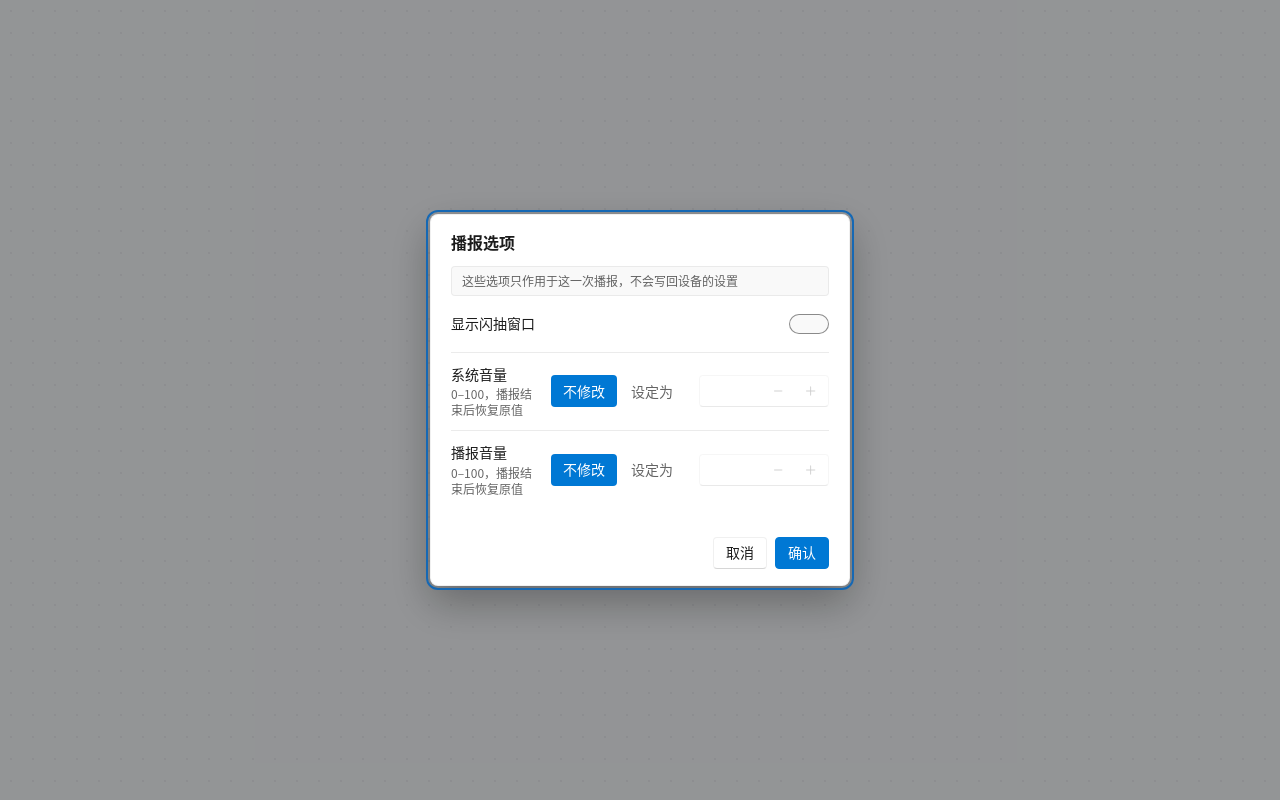
Test: ClientBroadcastDialog 选项 › 越界 / 小数 / 空着都不给确认，并当场说清要填什么
Click the radio button with test id "broadcast-system-set": (652, 391) [619,375,685,407]
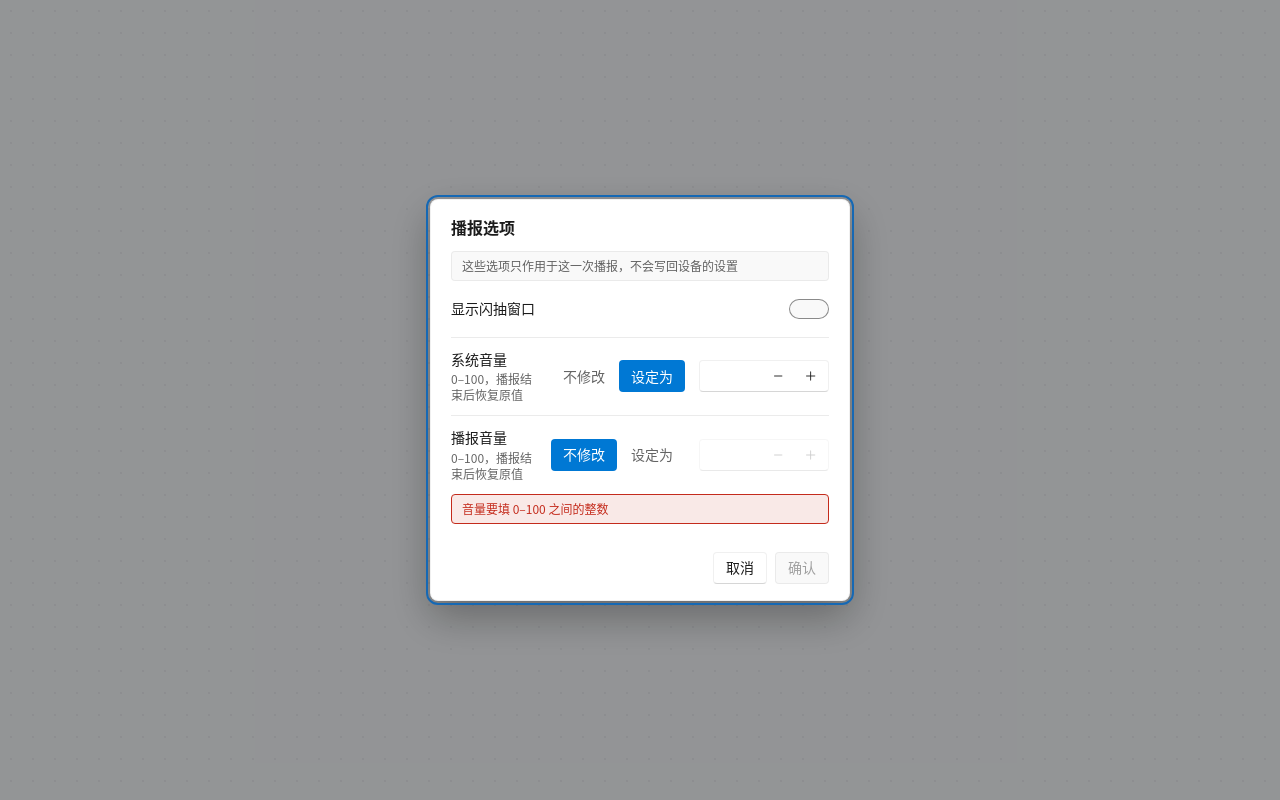
Now the text with test id "broadcast-problem" shows "0–100", box [462,500,608,517]
In the number field with test id "broadcast-system-volume": (732, 376) [700,361,764,391], type "150"
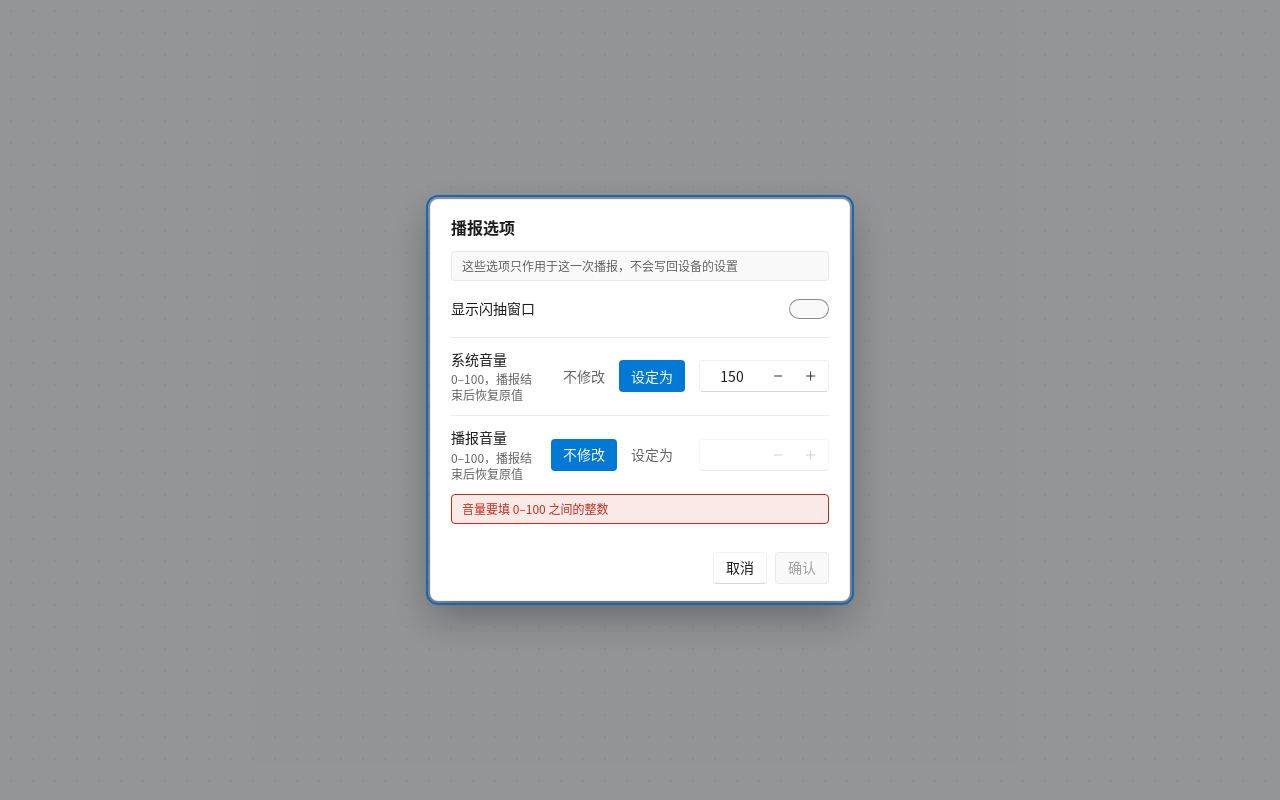
Now the button with test id "broadcast-confirm" is disabled, box [775,552,829,584]
Now the text with test id "broadcast-problem" shows "0–100", box [462,500,608,517]
Replace the text in the number field with test id "broadcast-system-volume" with "12.5": (732, 376) [700,361,764,391]
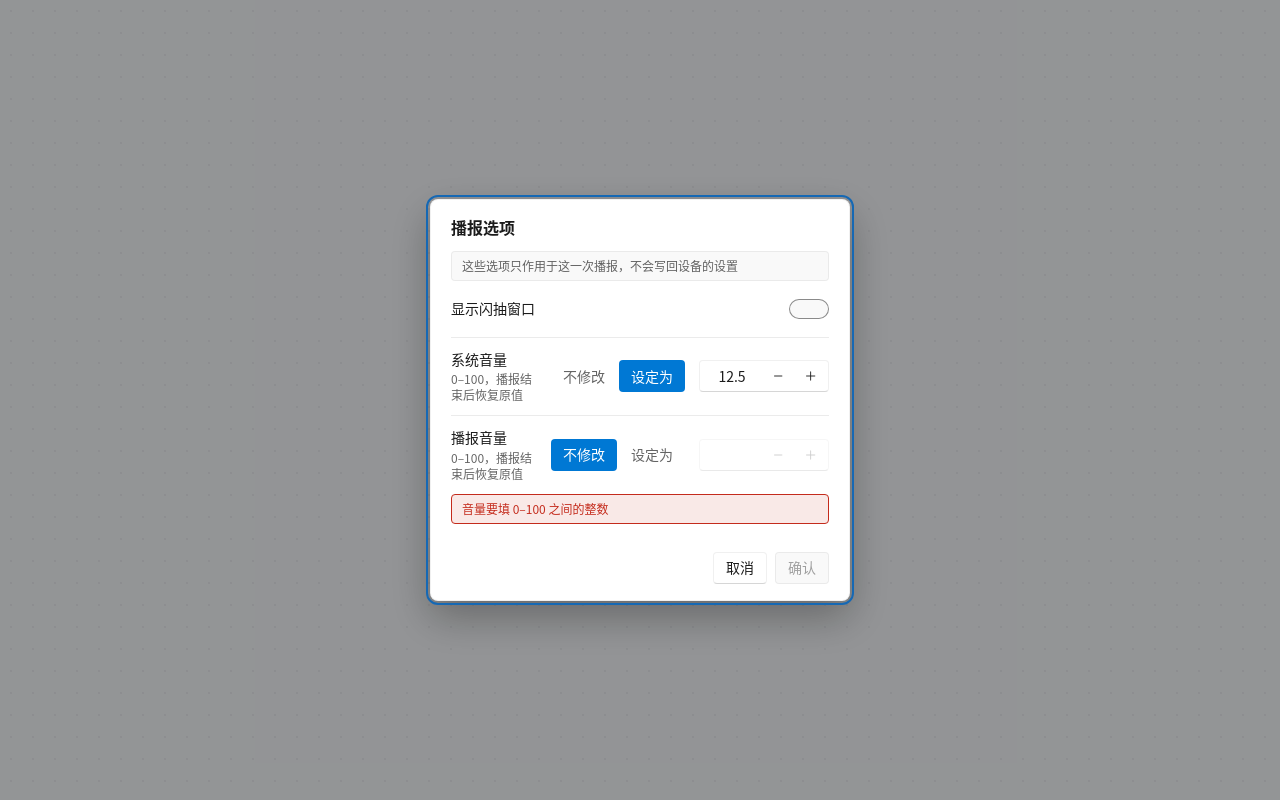
Now the button with test id "broadcast-confirm" is disabled, box [775,552,829,584]
Replace the text in the number field with test id "broadcast-system-volume" with "100": (732, 376) [700,361,764,391]
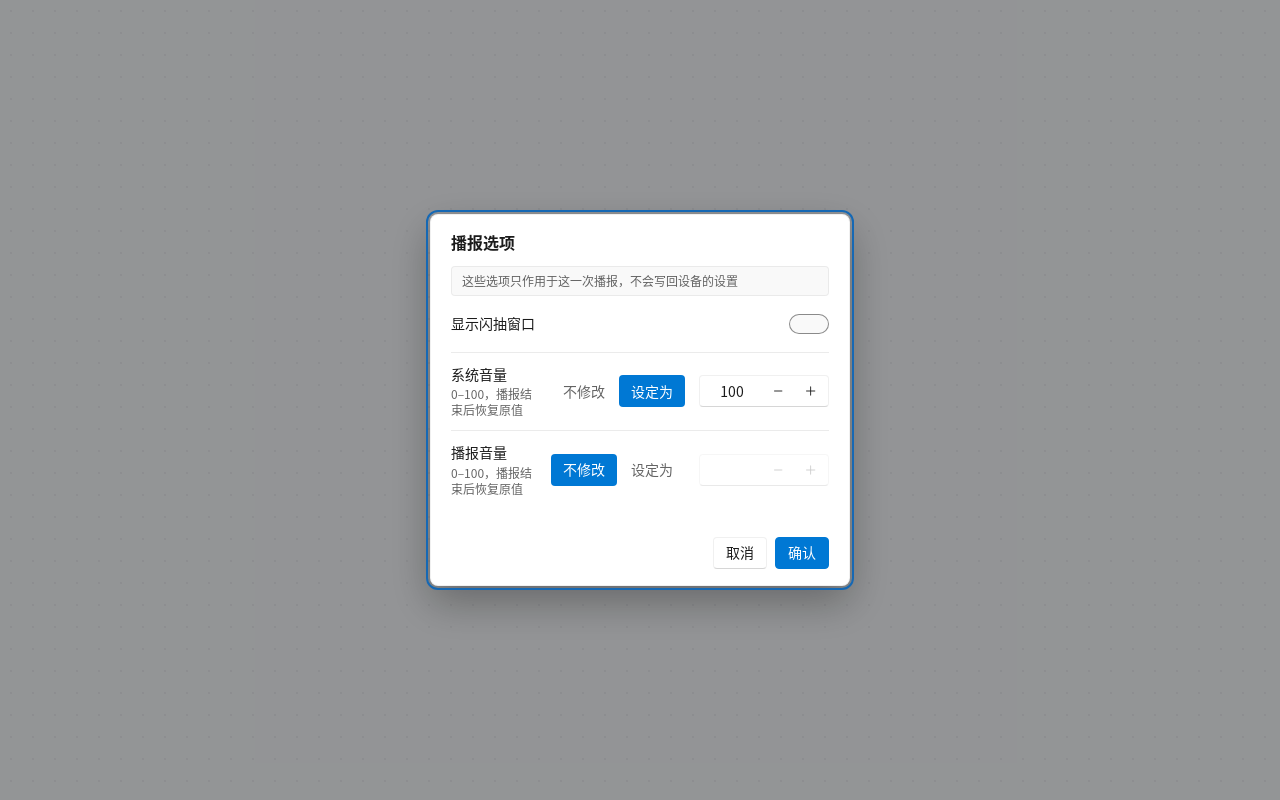
Now the button with test id "broadcast-confirm" is enabled, box [775,537,829,569]
